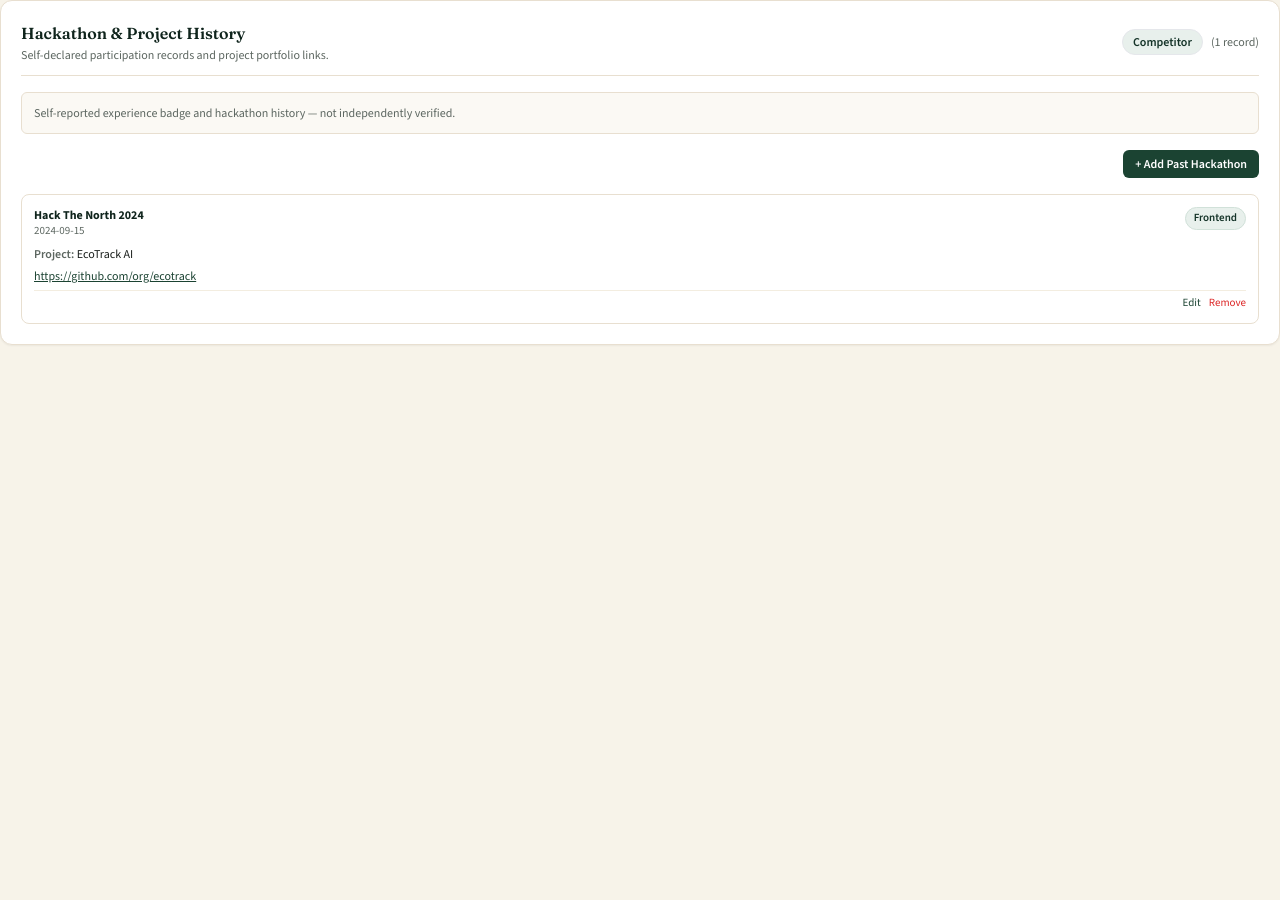
Test: HackathonHistorySection (US-007 / #280) › Owner Edit Flow › populates form with existing record on Edit click and updates via PUT
This screenshot has width=1280, height=900.
// Click Edit
Click the button "Edit" at (1192, 303), box [1183,294,1201,311]
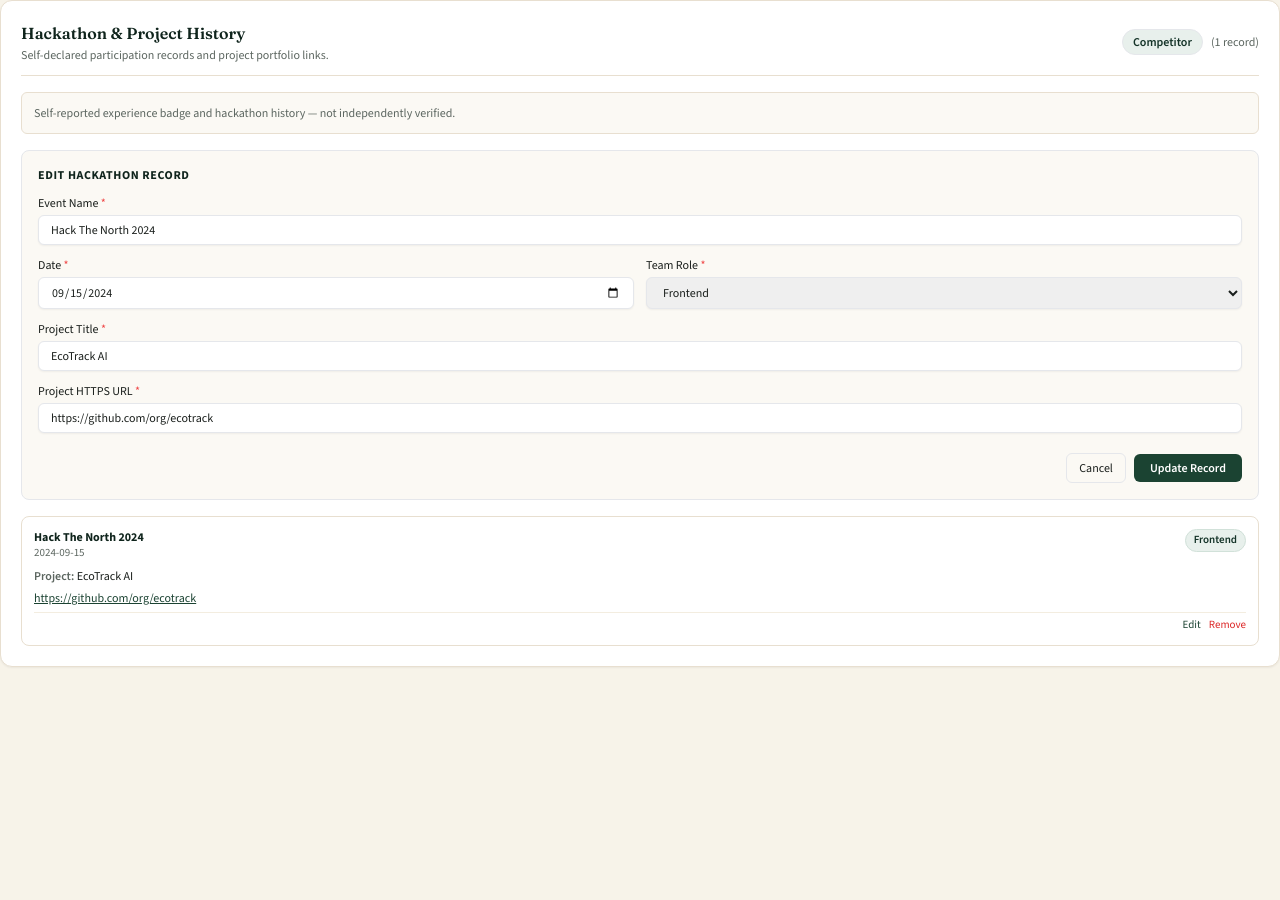
Result: the field labelled "Event Name *" holds "Hack The North 2024" at [38,215,1242,245]
Result: the field labelled "Project Title *" holds "EcoTrack AI"
// Update project title
Replace the text in the field labelled "Project Title *" with "EcoTrack AI 2.0" at (640, 356), box [38,341,1242,371]
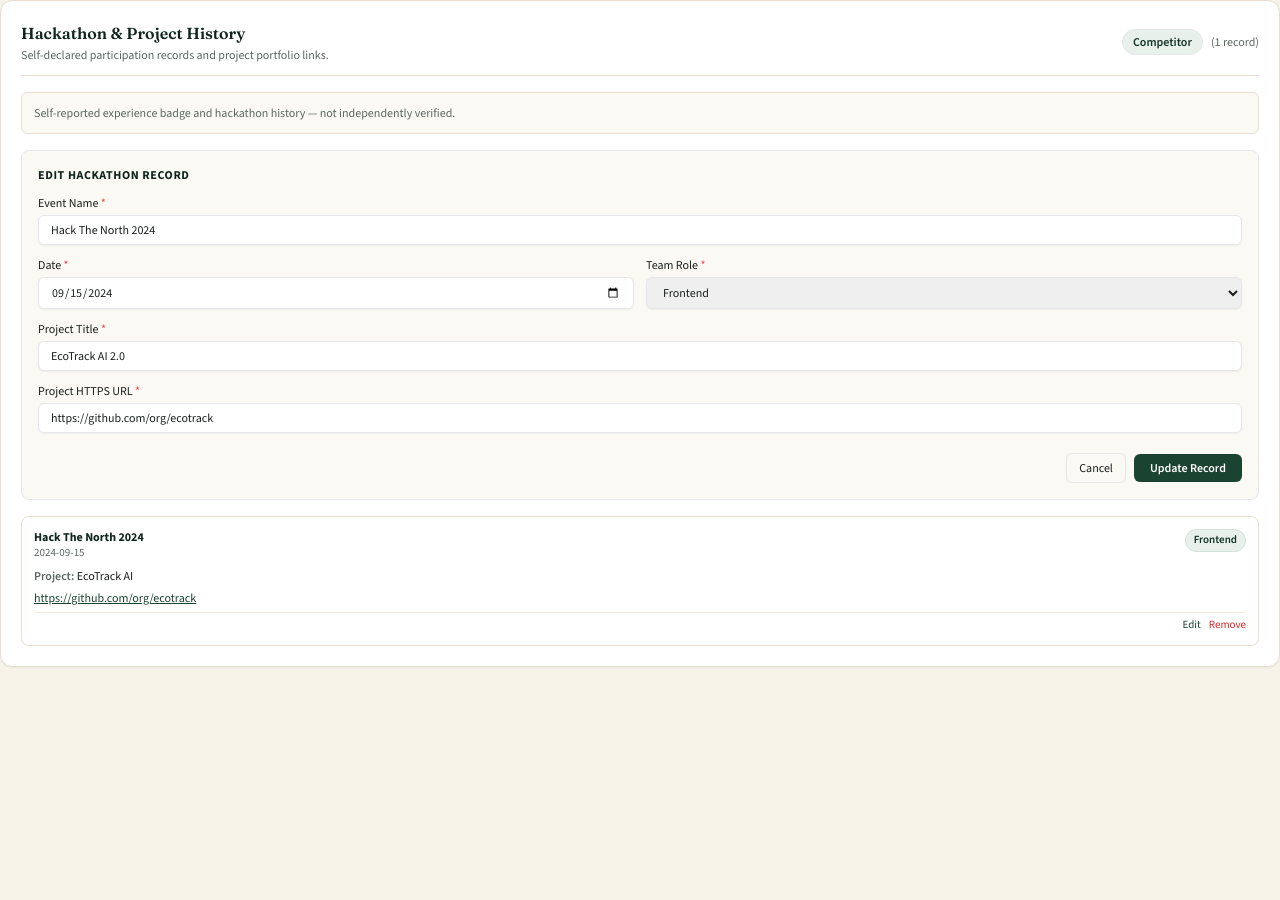
Click the button "Update Record" at (1188, 468), box [1134,454,1242,482]
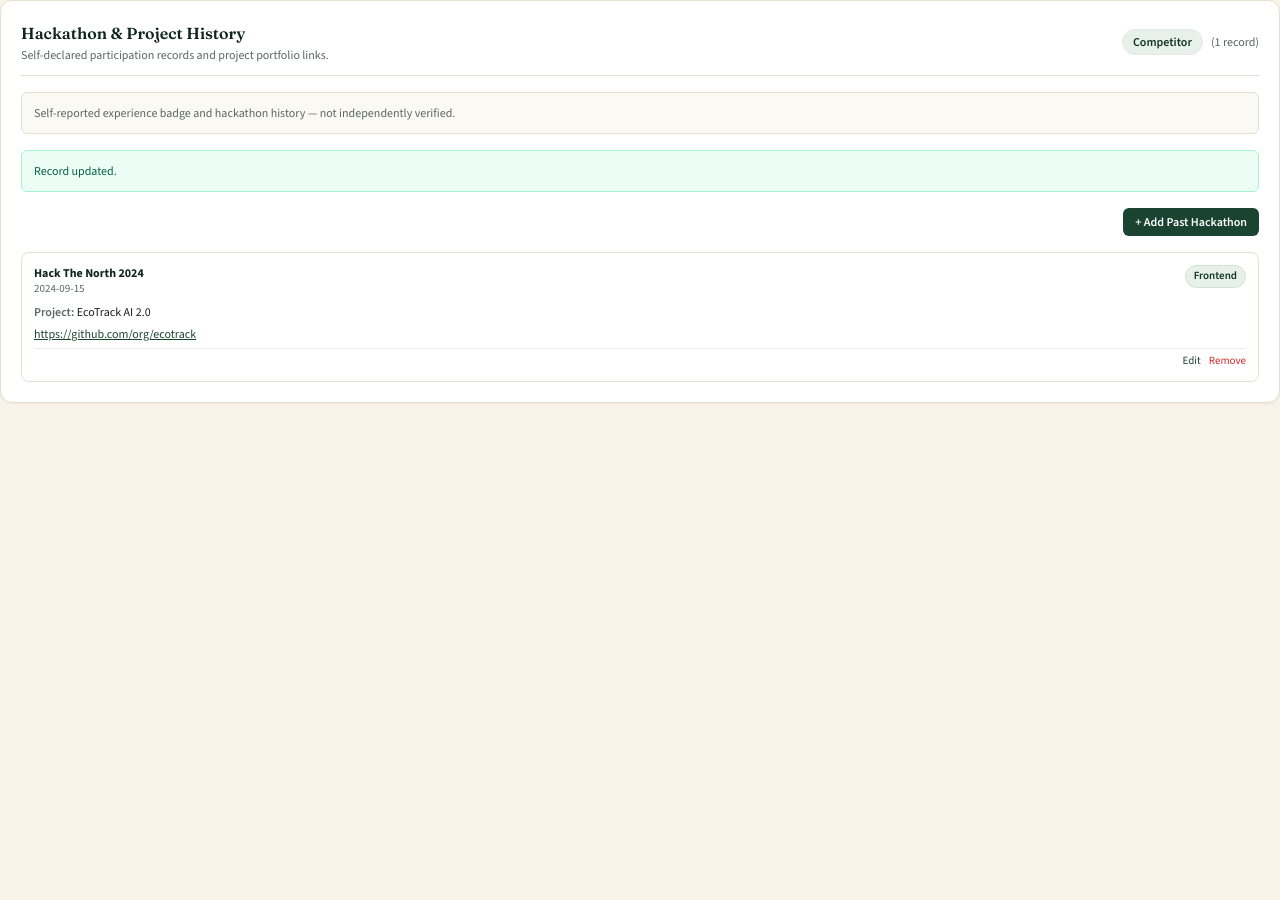
Result: the text "EcoTrack AI 2.0" is shown at [77,304,151,320]
